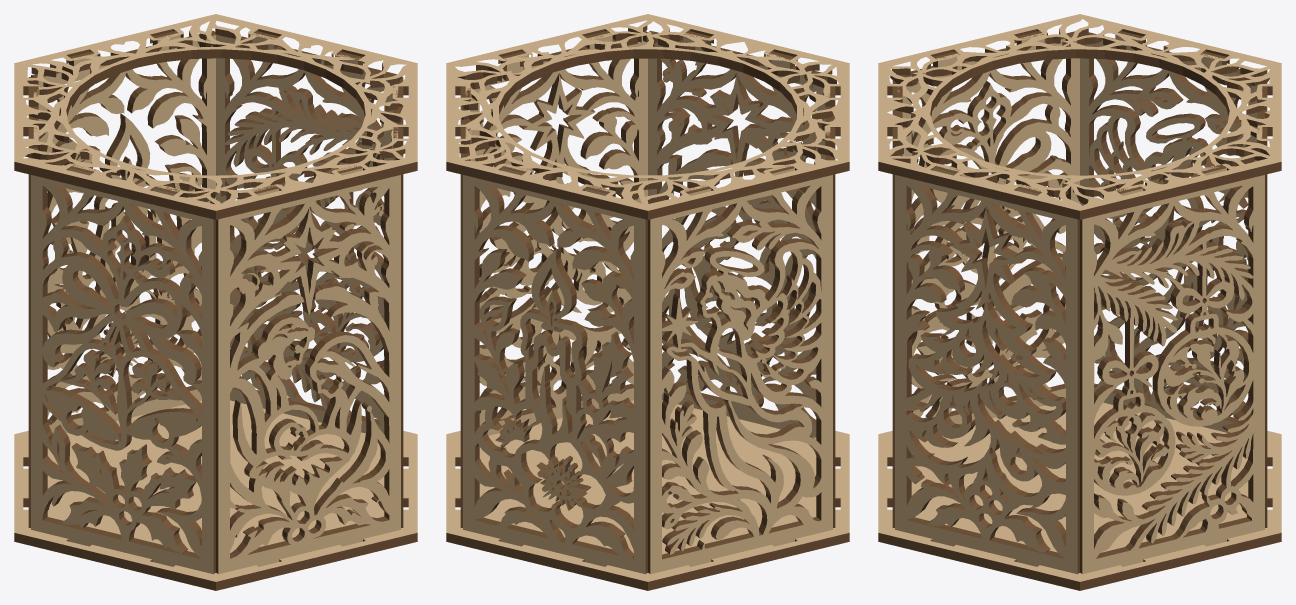
Rendered from lumi-2-vanoce.glb.
The picture shows the model from 3 angles, left to right: view 1: azimuth 30°, elevation 25°; view 2: azimuth 150°, elevation 25°; view 3: azimuth 270°, elevation 25°; orthographic projection.
Visible parts, largest first — view 1: stena-03, stena-02, vrsek, stena-06, dno, stena-05, stena-01, stena-04; view 2: stena-05, stena-04, vrsek, stena-02, stena-01, dno, stena-03, stena-06; view 3: stena-06, stena-01, vrsek, stena-03, dno, stena-04, stena-02, stena-05.
Part boxes in pixels (x1=…): stena-03: x1=31, y1=164, x2=215, y2=574; stena-02: x1=216, y1=165, x2=400, y2=574; vrsek: x1=14, y1=14, x2=417, y2=219; stena-06: x1=216, y1=31, x2=396, y2=433; dno: x1=14, y1=400, x2=417, y2=590; stena-05: x1=31, y1=30, x2=216, y2=433; stena-01: x1=393, y1=77, x2=403, y2=527; stena-04: x1=28, y1=77, x2=38, y2=527; stena-05: x1=463, y1=165, x2=647, y2=574; stena-04: x1=648, y1=165, x2=832, y2=574; vrsek: x1=446, y1=14, x2=849, y2=219; stena-02: x1=648, y1=30, x2=825, y2=437; stena-01: x1=470, y1=31, x2=647, y2=435; dno: x1=446, y1=400, x2=849, y2=590; stena-03: x1=825, y1=78, x2=835, y2=527; stena-06: x1=460, y1=86, x2=470, y2=527; stena-06: x1=1080, y1=164, x2=1264, y2=574; stena-01: x1=895, y1=165, x2=1079, y2=574; vrsek: x1=878, y1=14, x2=1281, y2=219; stena-03: x1=899, y1=31, x2=1079, y2=424; dno: x1=878, y1=402, x2=1281, y2=590; stena-04: x1=1080, y1=31, x2=1257, y2=432; stena-02: x1=892, y1=80, x2=902, y2=527; stena-05: x1=1257, y1=82, x2=1267, y2=527.
Size of the model in its own units: 0.14 by 0.126 by 0.1212.
